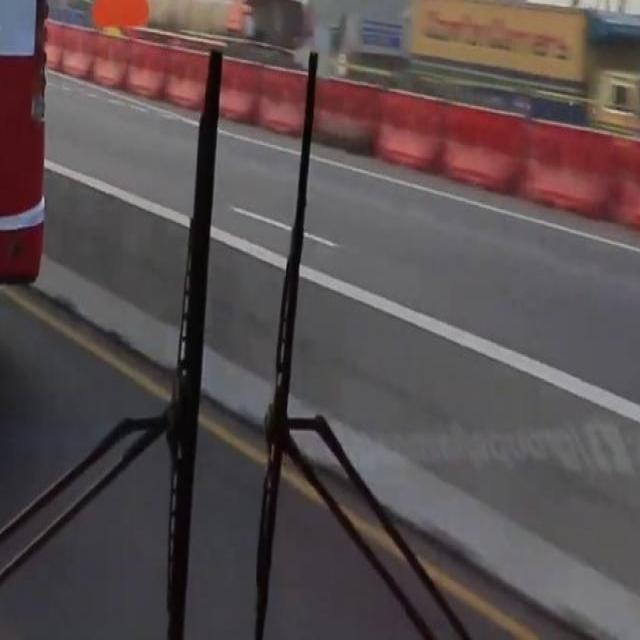18: (408, 3, 638, 122)
Truck: (1, 3, 47, 279)
